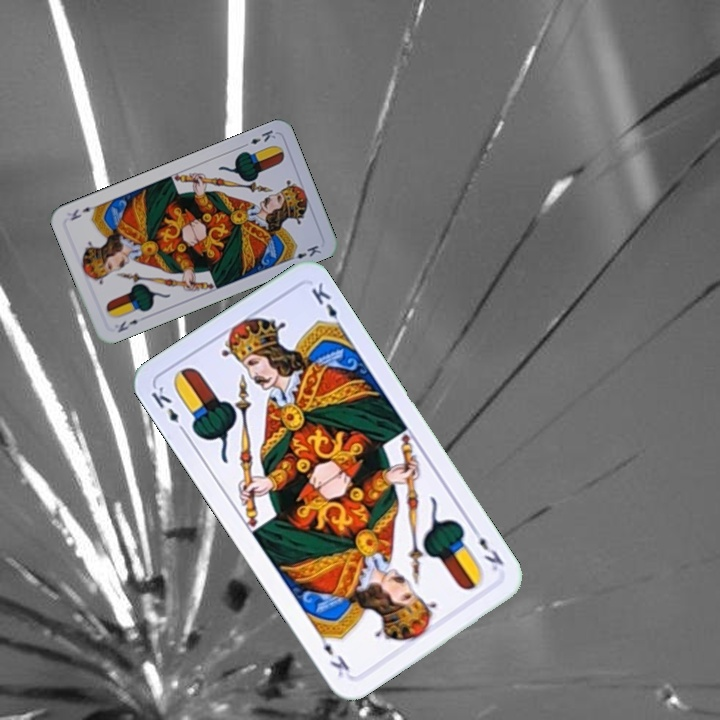EK: (147, 382, 189, 437), (467, 522, 507, 574), (238, 126, 278, 150), (113, 315, 141, 335)
